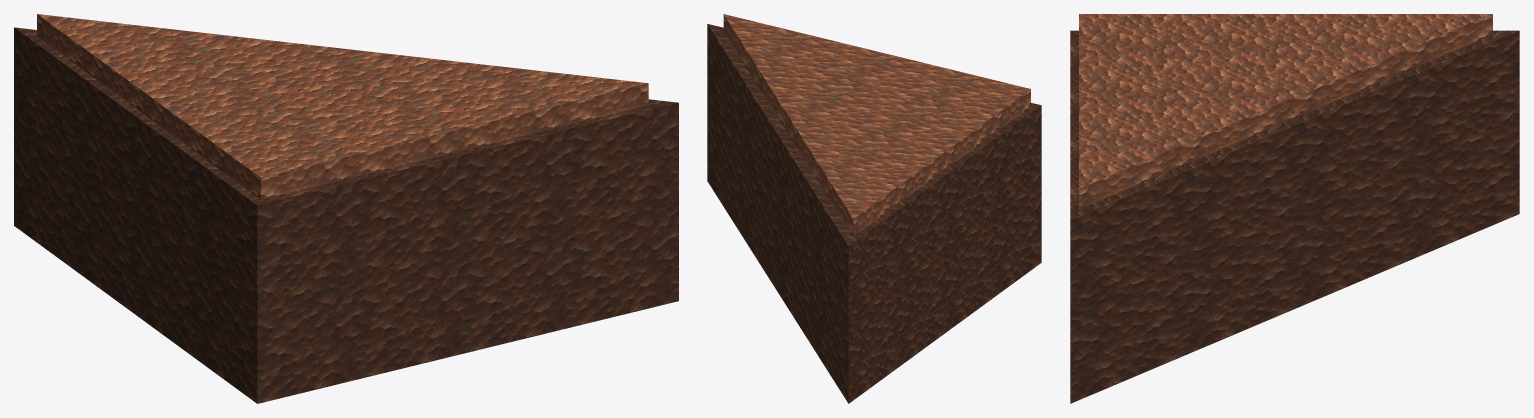
The model's file is foundation_triangle__copper_ingot.glb.
The picture shows the model from 3 angles, left to right: view 1: azimuth 30°, elevation 25°; view 2: azimuth 150°, elevation 25°; view 3: azimuth 270°, elevation 25°; orthographic projection. The views are drawn at different scales.
Parts seen in each view (by area): view 1: model; view 2: model; view 3: model.
Part boxes in pixels (x1,y1,x2,y2): model: (14,14,678,403); model: (707,14,1041,403); model: (1070,14,1519,403).
Size of the model in its own units: 2 by 1 by 2.
Materials: 2 (2 with a texture image).
